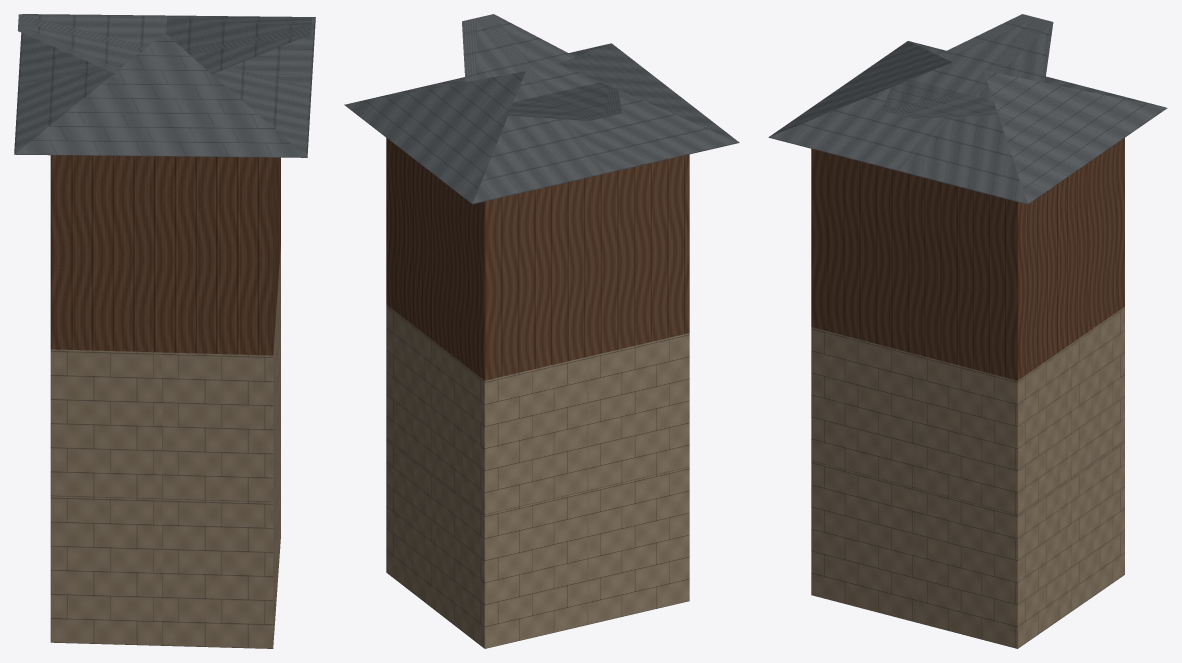
The model's file is bld_c10_43_506.gltf.
3 renders of one model, left to right at view 1: azimuth 30°, elevation 25°; view 2: azimuth 150°, elevation 25°; view 3: azimuth 270°, elevation 25°, orthographic. The views are drawn at different scales.
Parts seen in each view (by area): view 1: bld_c10_43_506; view 2: bld_c10_43_506; view 3: bld_c10_43_506.
Boxes of the visible parts, left/top/right/bottom form: bld_c10_43_506: left=14, top=14, right=315, bottom=648; bld_c10_43_506: left=344, top=14, right=739, bottom=648; bld_c10_43_506: left=768, top=14, right=1167, bottom=648.
Size of the model in its own units: 6.23 by 9.2 by 6.43.
3 materials, 3 textured.
